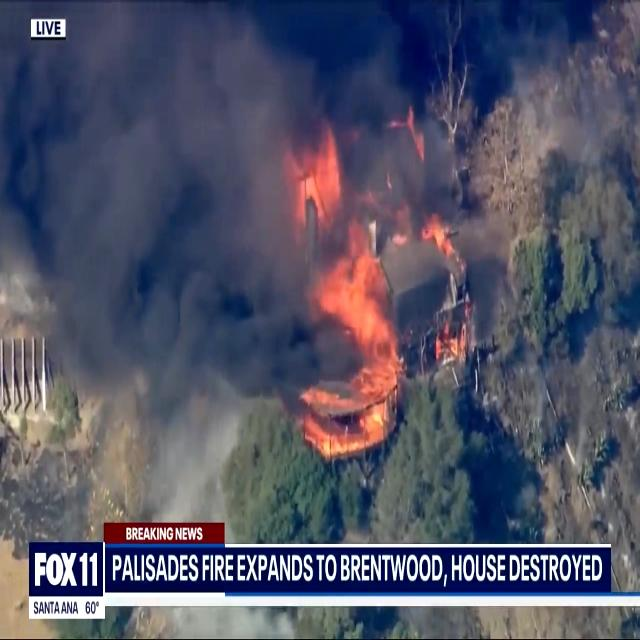Smoke: (0, 39, 359, 382)
